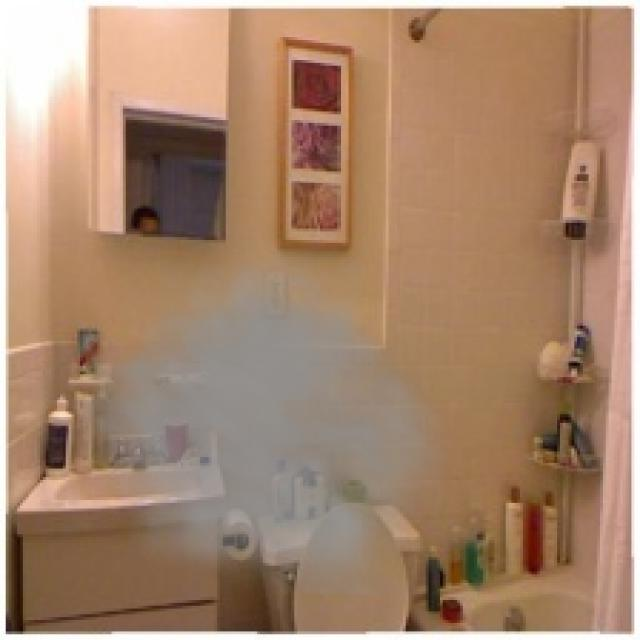smoke: (63, 223, 463, 594)
